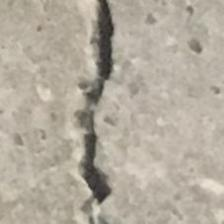Crack: (48, 0, 132, 224)
